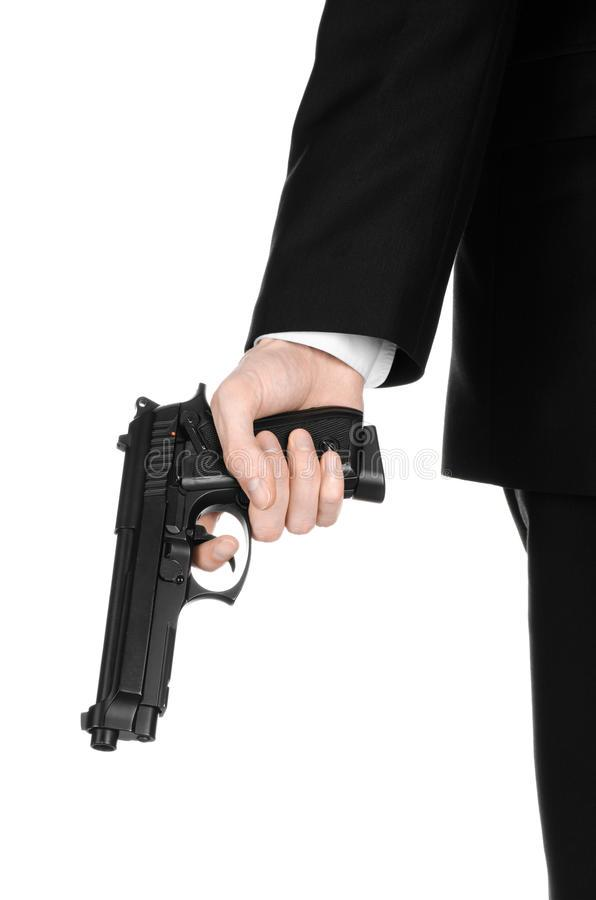weapon: (73, 370, 390, 761)
